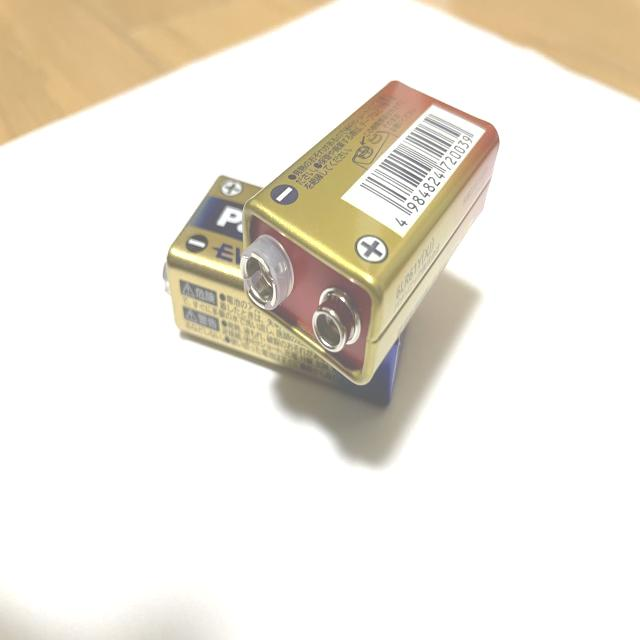9V: (239, 80, 500, 387), (162, 174, 403, 403)
